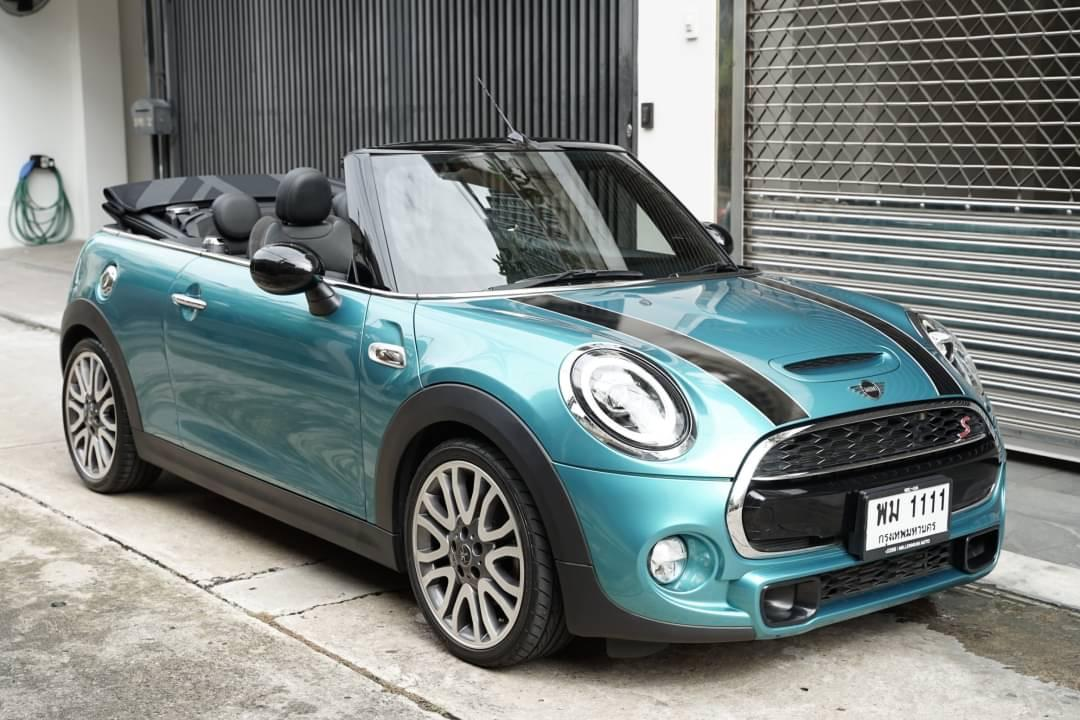license-plate: (839, 469, 962, 569)
